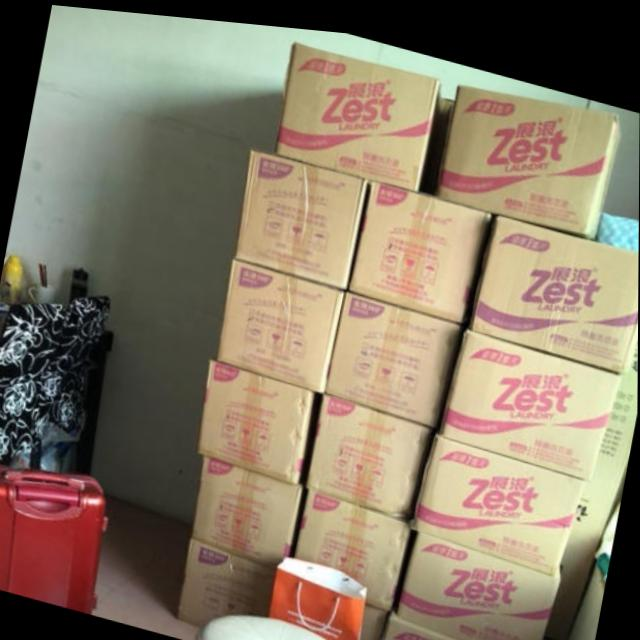box: (435, 318, 623, 469), (435, 76, 621, 227), (469, 202, 639, 361), (275, 36, 444, 183), (412, 425, 586, 565), (347, 170, 498, 318), (390, 518, 561, 640), (324, 282, 466, 421), (232, 142, 367, 283), (298, 383, 436, 515), (216, 252, 346, 386), (289, 481, 413, 605), (196, 353, 314, 480), (192, 450, 303, 564), (177, 532, 276, 623), (381, 606, 489, 640), (418, 90, 455, 187), (358, 597, 390, 640)
